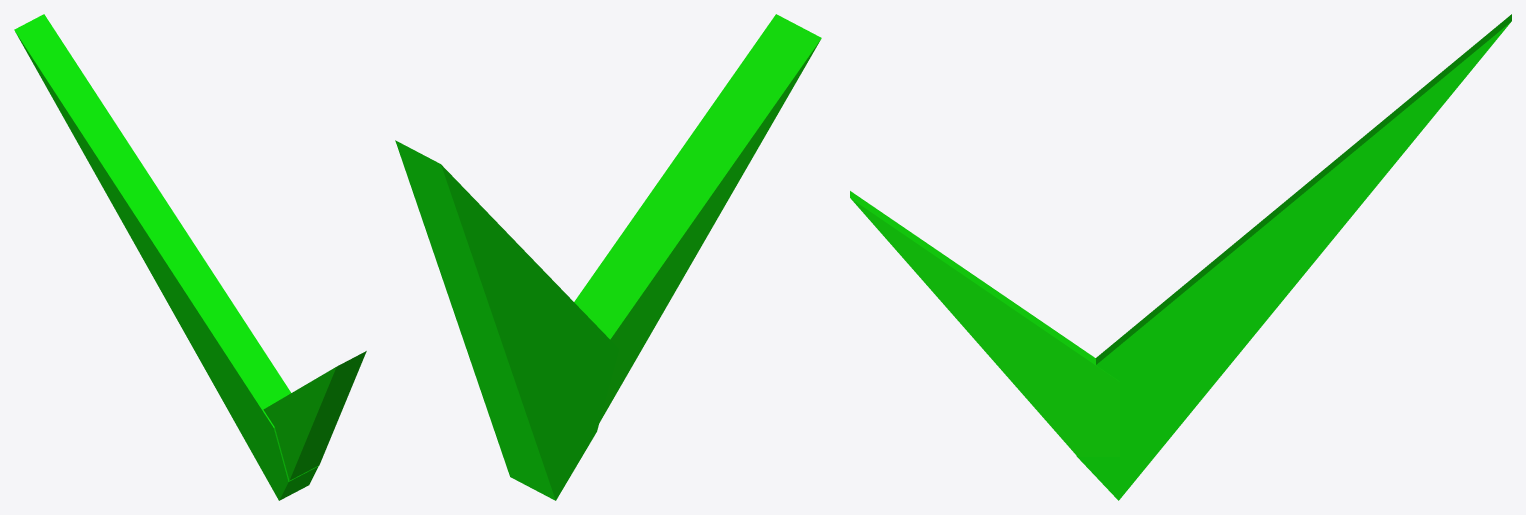
3 views of the same model, side by side, from view 1: azimuth 30°, elevation 25°; view 2: azimuth 150°, elevation 25°; view 3: azimuth 270°, elevation 25° (orthographic). The views are drawn at different scales.
Visible parts, largest first — view 1: Cube.001; view 2: Cube.001; view 3: Cube.001.
Boxes of the visible parts, x1,y1,x2,y2 form: Cube.001: (14,14,366,500); Cube.001: (395,14,821,500); Cube.001: (850,14,1511,500).
Bounding box in the file's own units: 1.3 × 5.2 × 3.78.
